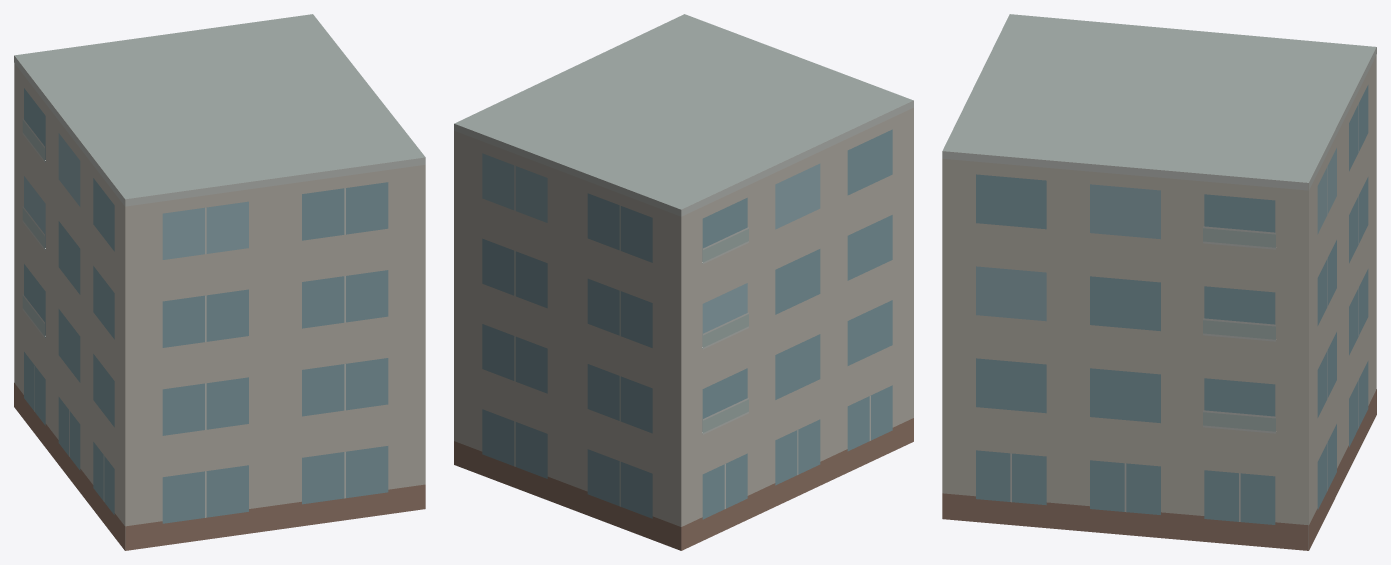
File: survey-upis-32535453.glb
3 renders of one model, left to right at view 1: azimuth 30°, elevation 25°; view 2: azimuth 150°, elevation 25°; view 3: azimuth 270°, elevation 25°, orthographic. The views are drawn at different scales.
Visible parts, largest first — view 1: survey-upis-32535453.tmp; view 2: survey-upis-32535453.tmp; view 3: survey-upis-32535453.tmp.
Boxes of the visible parts, x1=… form: survey-upis-32535453.tmp: x1=14, y1=14, x2=425, y2=550; survey-upis-32535453.tmp: x1=454, y1=14, x2=913, y2=550; survey-upis-32535453.tmp: x1=942, y1=14, x2=1376, y2=550.
Bounding box in the file's own units: 11.58 × 11.75 × 12.58.
